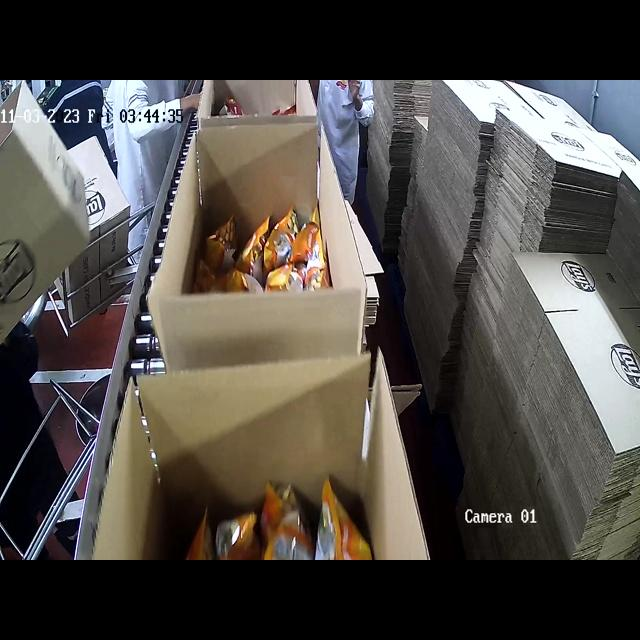cheese: (189, 201, 341, 299), (160, 505, 371, 560)
masala: (211, 93, 293, 120)
